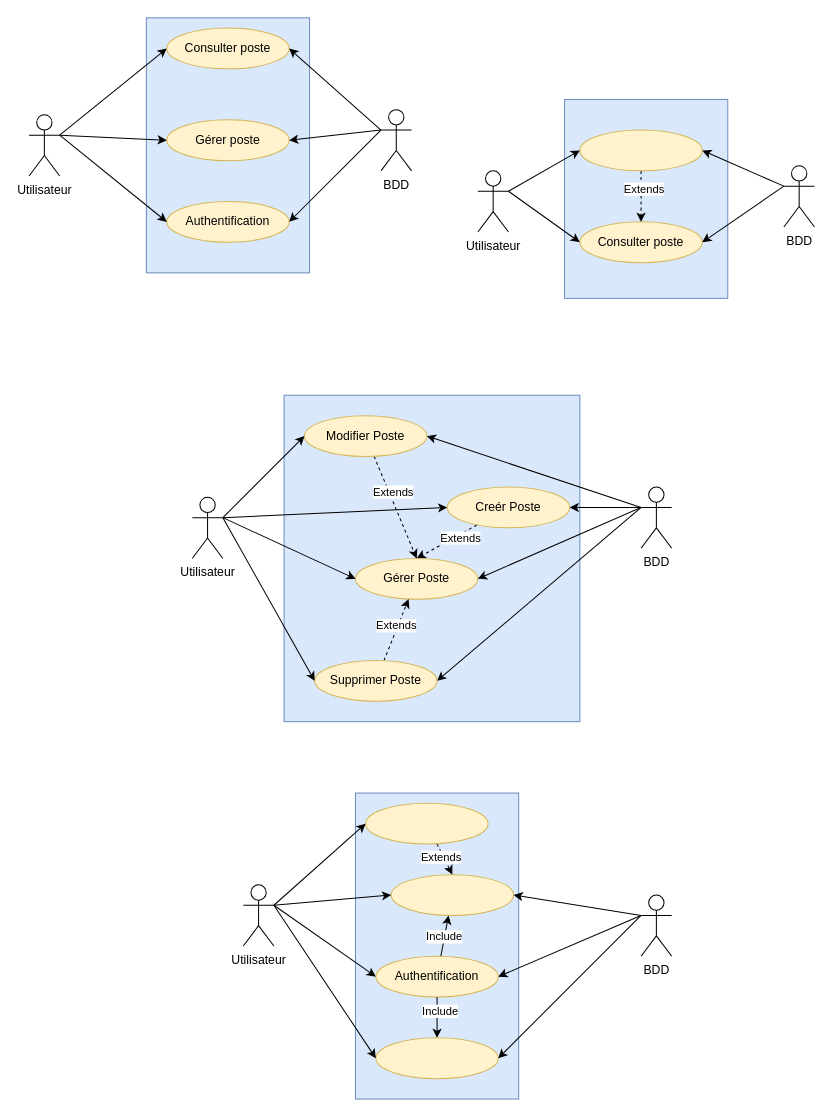
The diagram is 832 pixels wide and 1117 high, and some of its shapes have lost their labels. Each missing label, with the centre of its shape:
Filtrer par catégorie: the point at 640,150
Login: the point at 452,894
Logout: the point at 426,823
Sign in: the point at 436,1058
